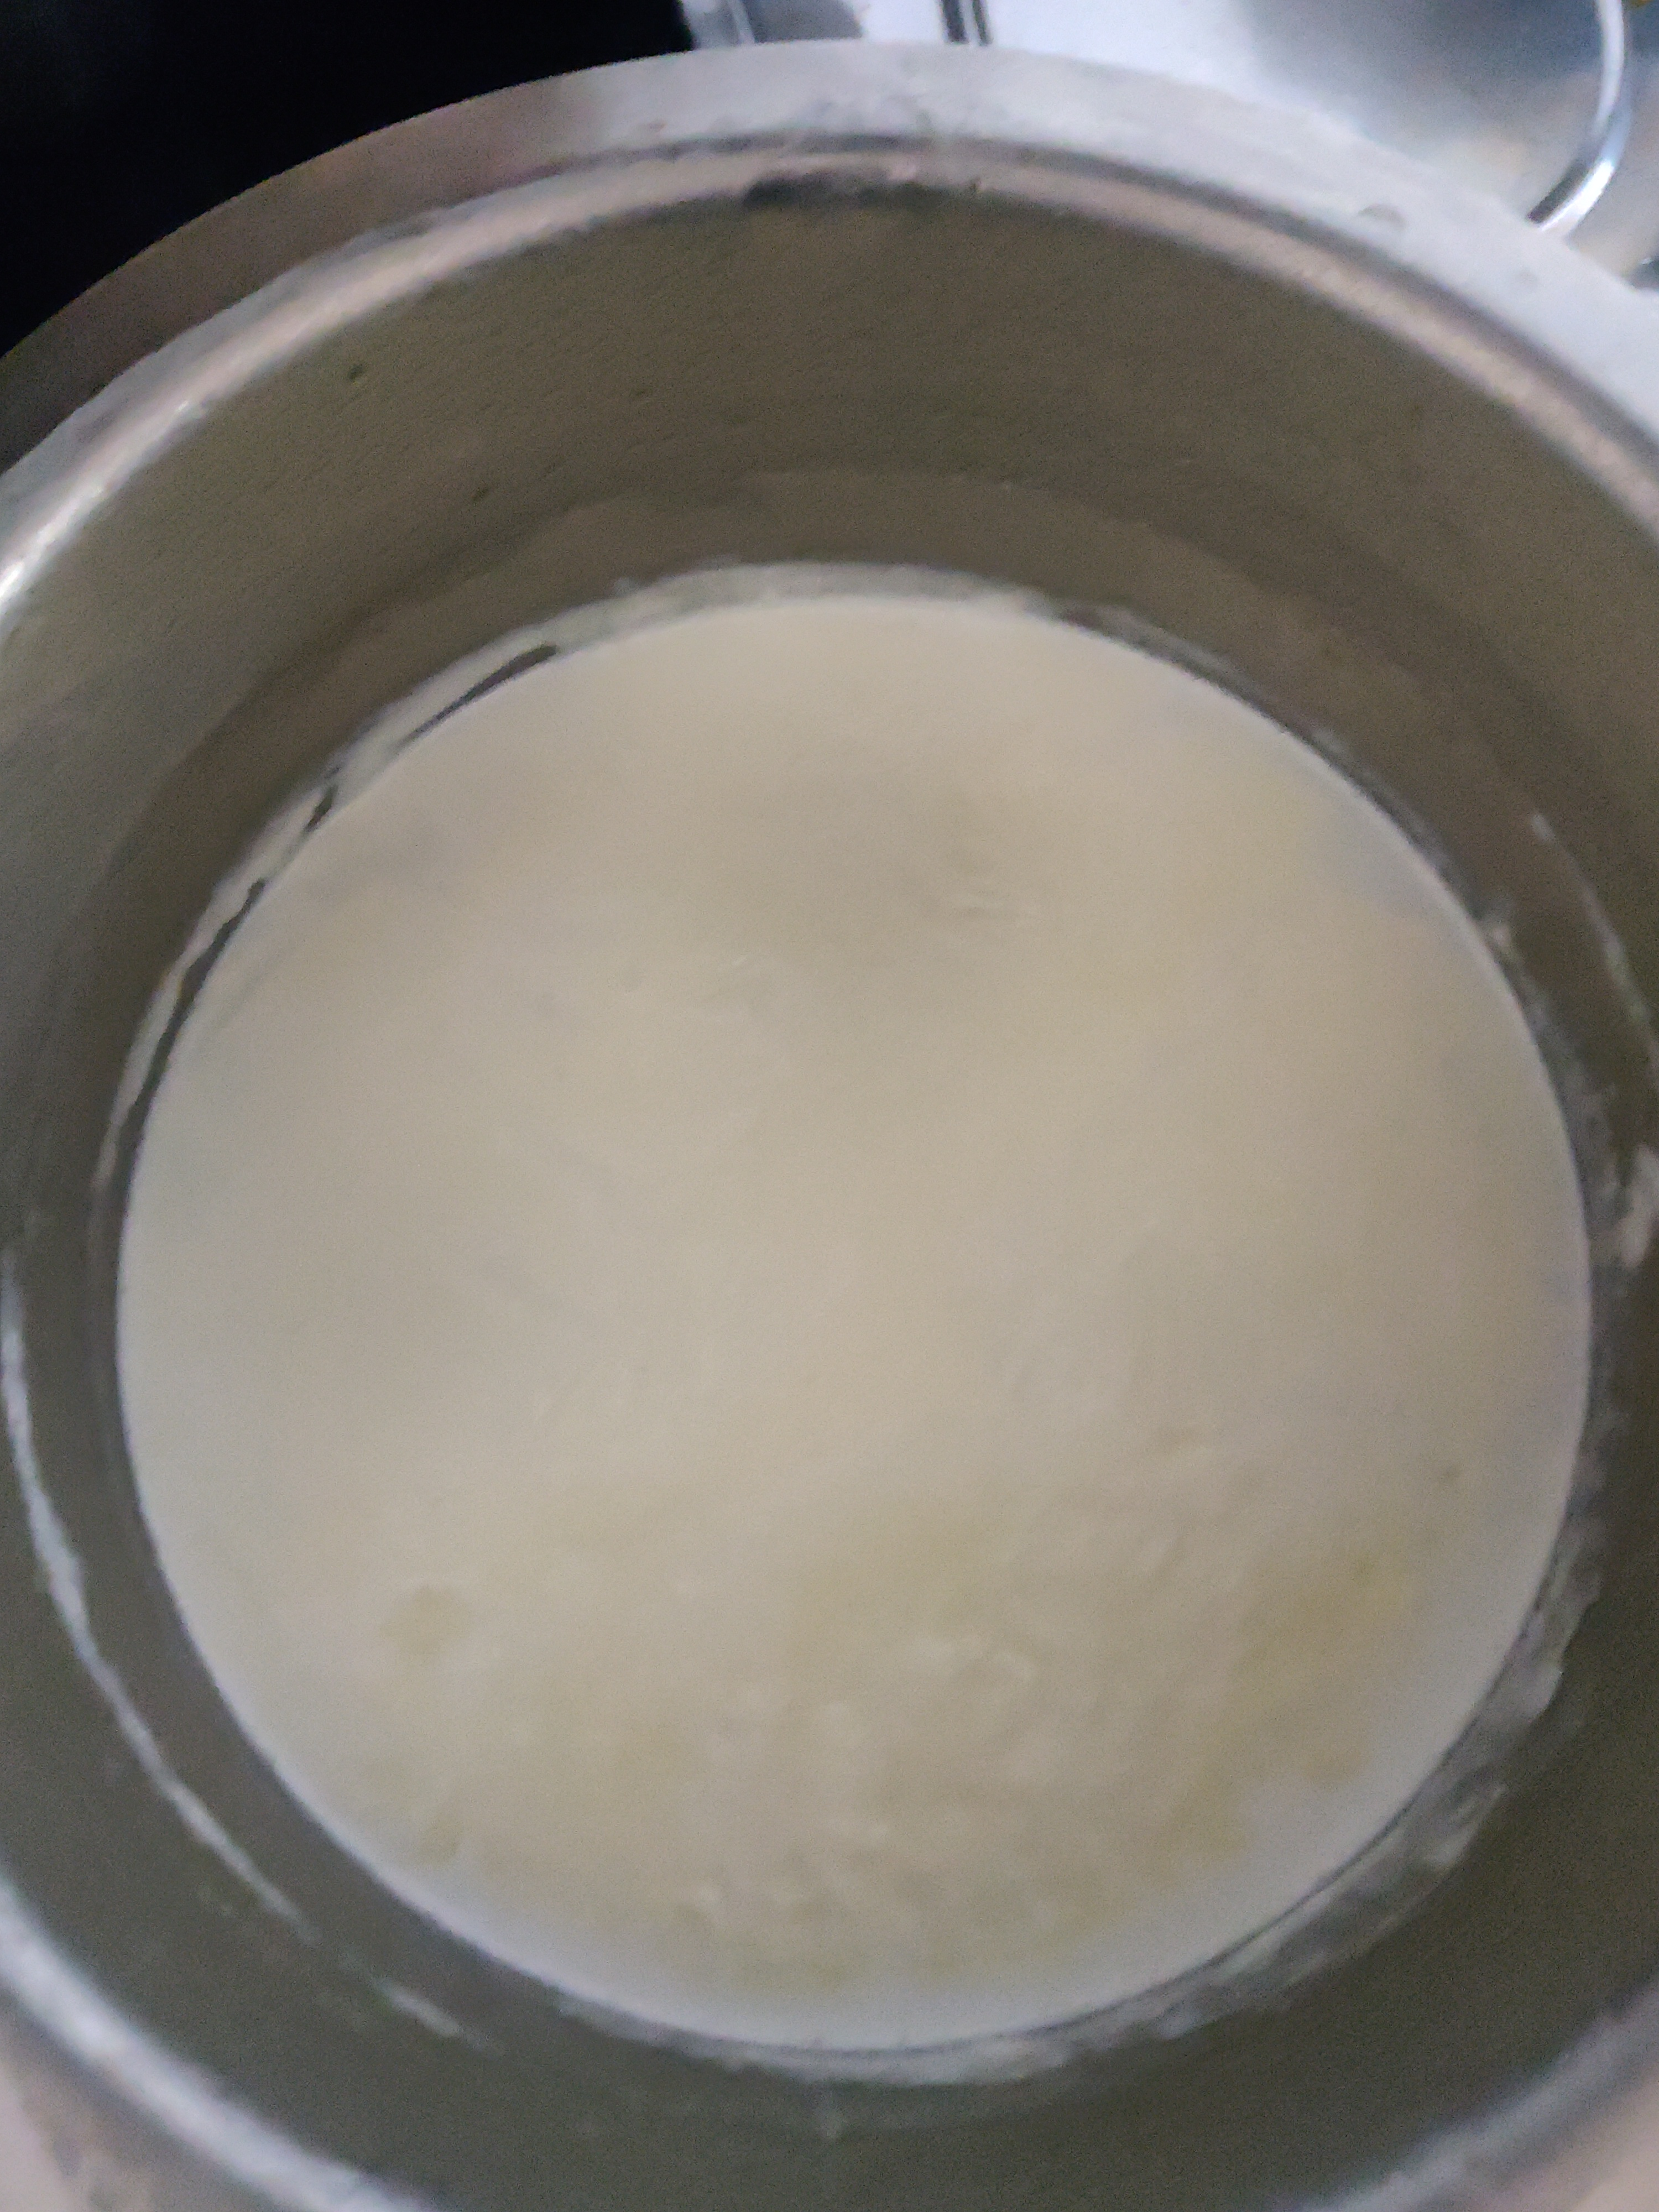food: (85, 547, 1615, 2090)
